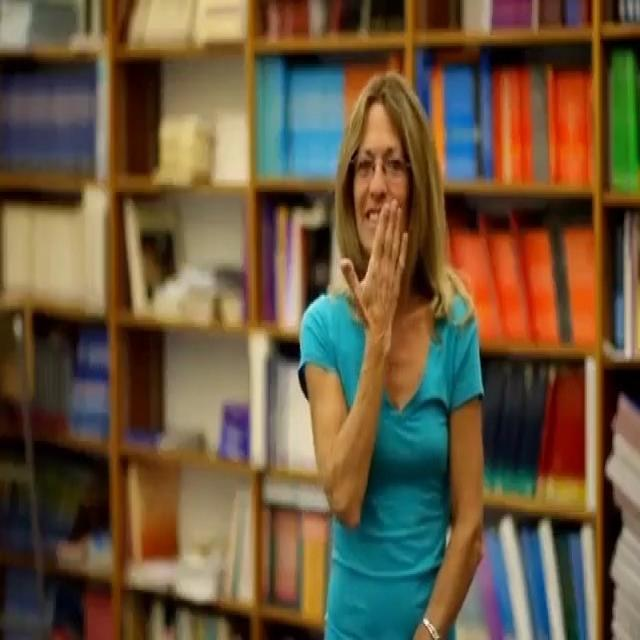napkin: (344, 199, 412, 341)
